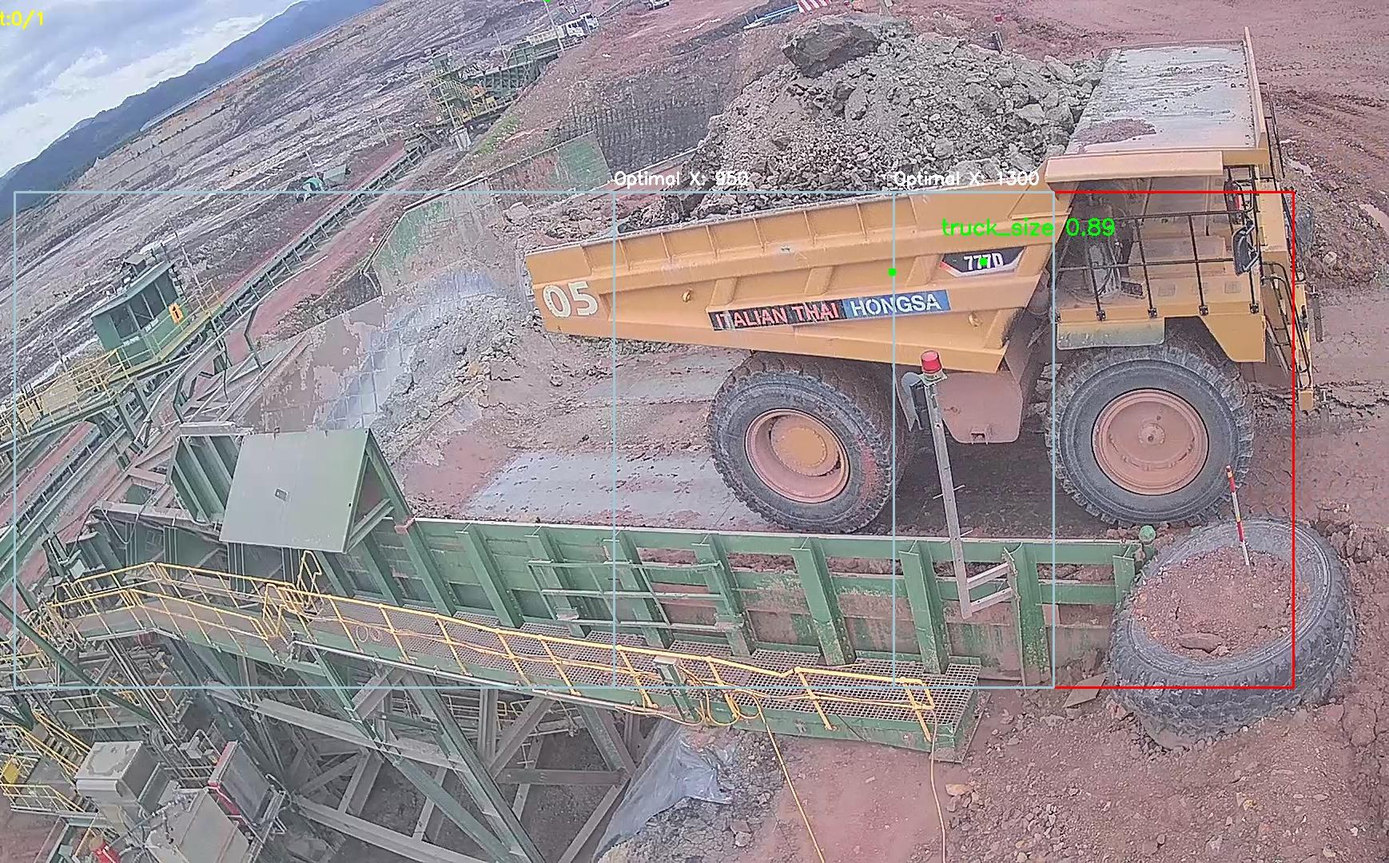company: (695, 283, 966, 330)
full_load: (718, 10, 1049, 208)
mining_truck: (518, 2, 1323, 531)
tail_number: (532, 274, 605, 334)
truck_size: (933, 235, 1040, 277)
